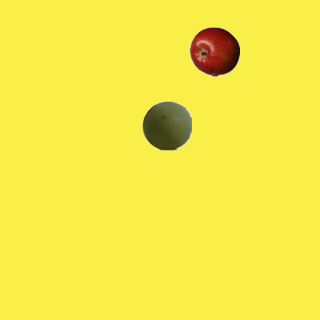Apple Braeburn: (189, 26, 239, 76)
Grape White 4: (141, 100, 191, 150)
